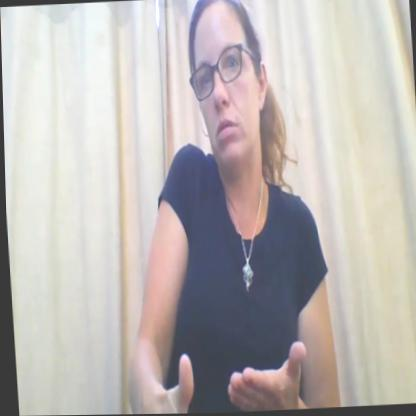Expensive: (122, 313, 306, 415)
